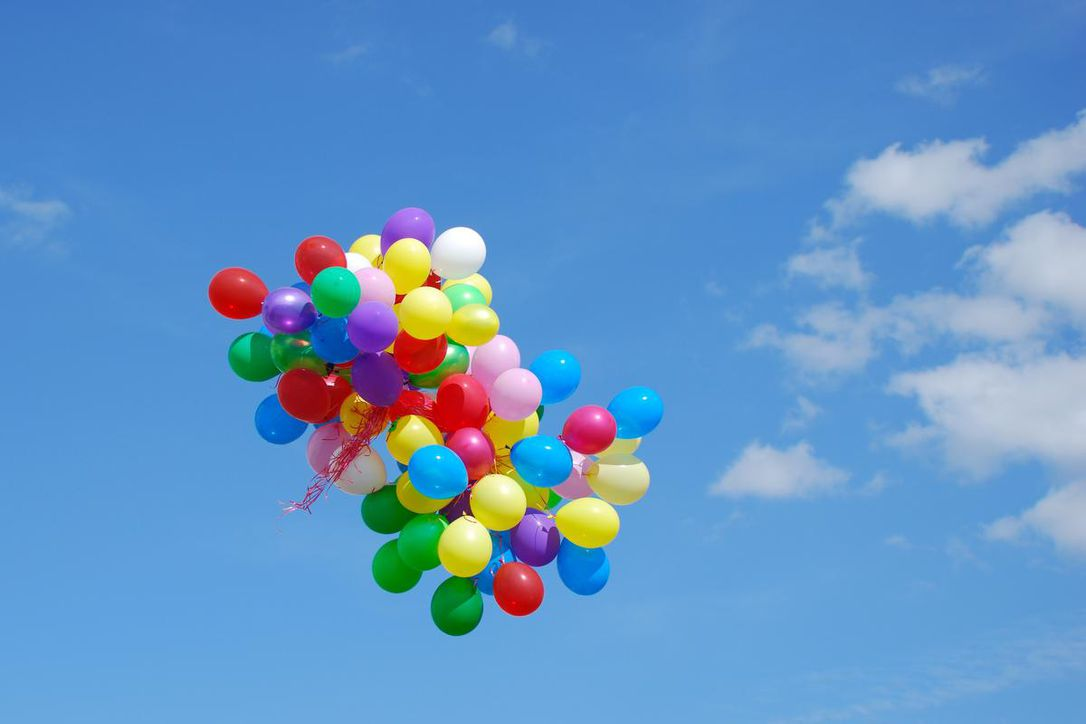Balloon: (435, 515, 491, 578), (407, 444, 469, 499), (509, 434, 572, 488), (556, 496, 621, 547), (469, 473, 527, 530), (587, 455, 650, 506), (430, 576, 483, 636), (278, 367, 334, 423), (329, 440, 387, 494), (557, 538, 609, 595), (209, 268, 267, 318), (488, 368, 542, 421), (432, 227, 487, 279), (437, 373, 486, 431), (400, 286, 452, 340), (608, 388, 662, 440), (531, 348, 581, 404), (493, 562, 544, 616), (351, 350, 400, 406), (511, 508, 558, 566), (562, 405, 616, 454), (382, 238, 430, 293), (349, 302, 398, 351), (312, 266, 360, 316), (400, 513, 442, 570), (263, 288, 315, 333), (230, 331, 277, 380), (449, 305, 500, 345)
